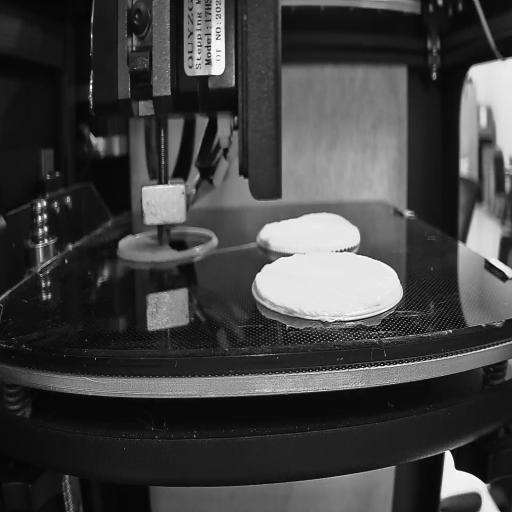over_extrusion: (254, 269, 272, 307)
